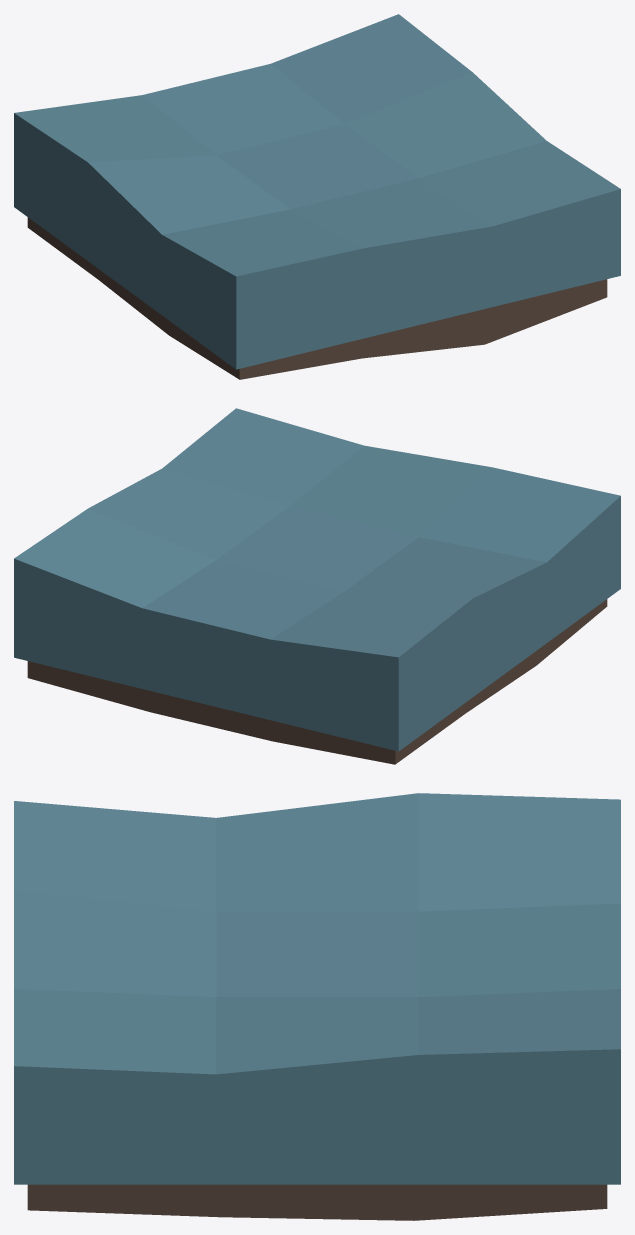
Rendered from world-sea.fbx.
3 views of the same model, one above another, from view 1: azimuth 30°, elevation 25°; view 2: azimuth 150°, elevation 25°; view 3: azimuth 270°, elevation 25° (orthographic). The views are drawn at different scales.
Visible parts, largest first — view 1: world-sea_01; view 2: world-sea_01; view 3: world-sea_01.
Boxes of the visible parts, x1,y1,x2,y2 form: world-sea_01: (14, 14, 620, 379); world-sea_01: (14, 408, 620, 764); world-sea_01: (14, 793, 620, 1220).
Size of the model in its own units: 1968 by 682 by 1968.
